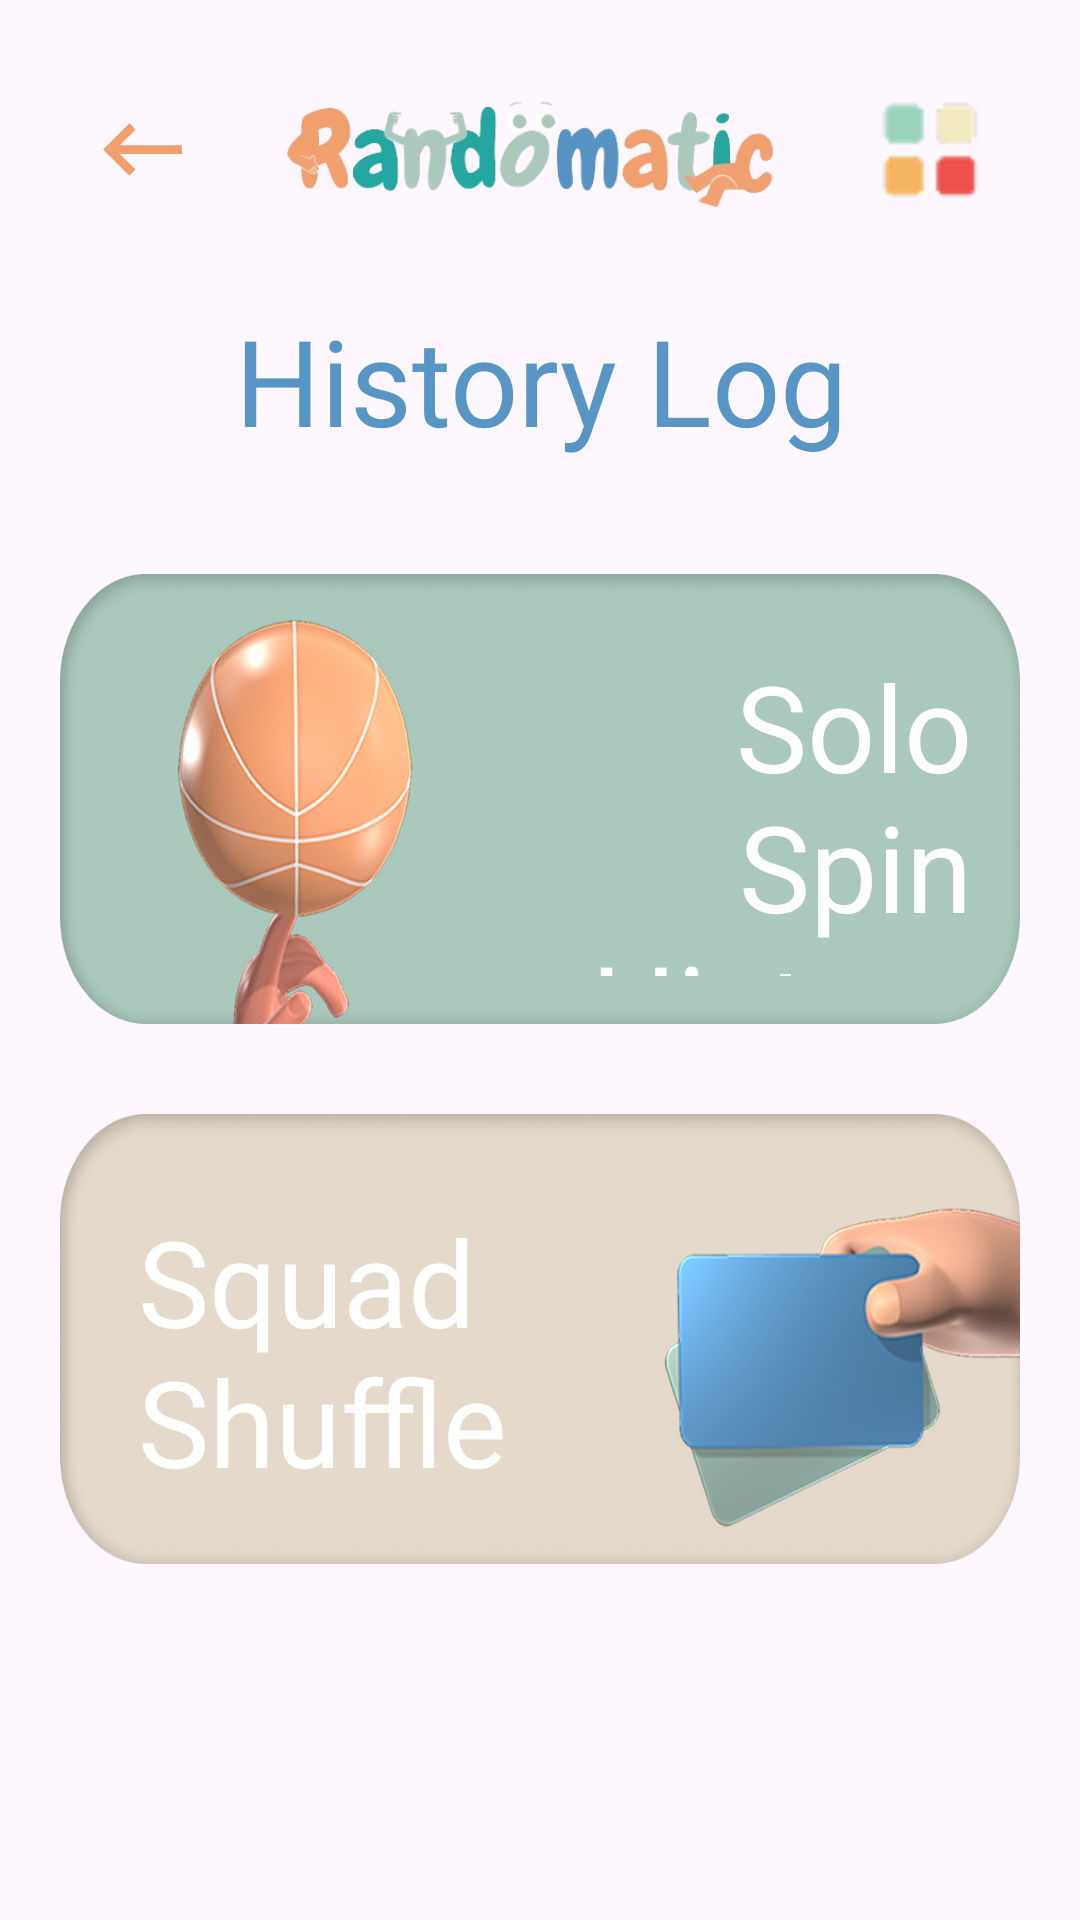

Icon click points for this 1080px x 1920px phone screenshot, format (x,y):
keyboard backspace: (142,149)
